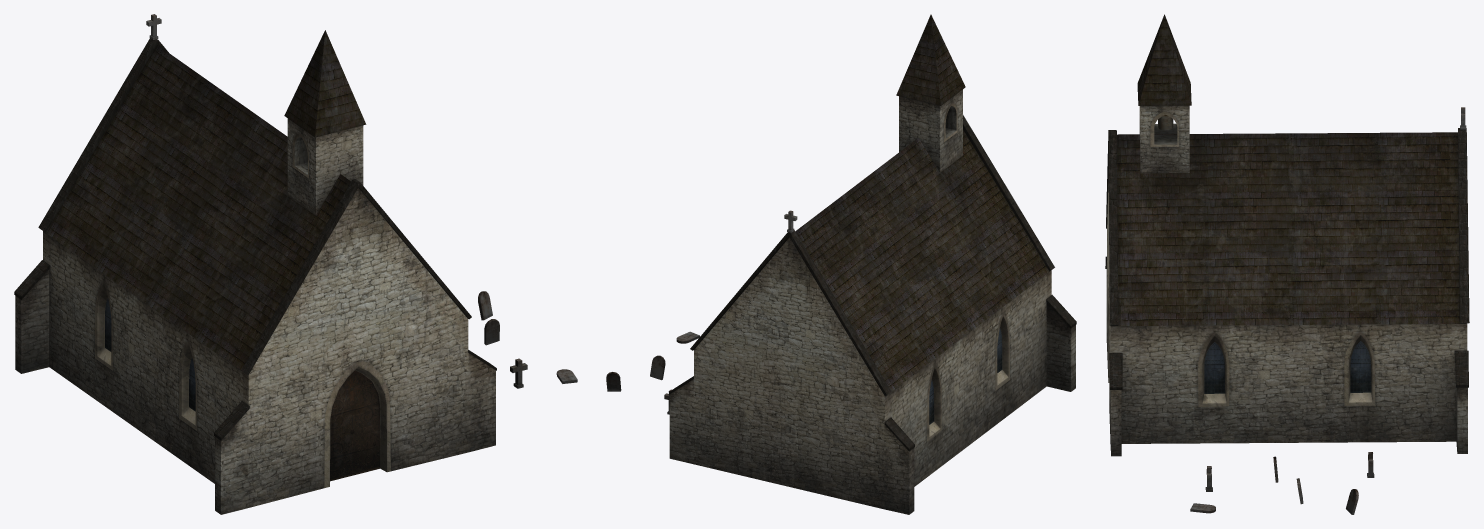
File: 001_ChurchNew.obj
The picture shows the model from 3 angles, left to right: view 1: azimuth 30°, elevation 25°; view 2: azimuth 150°, elevation 25°; view 3: azimuth 270°, elevation 25°; orthographic projection. The views are drawn at different scales.
Parts seen in each view (by area): view 1: chapel_obj.001; view 2: chapel_obj.001; view 3: chapel_obj.001.
Part boxes in pixels (box(x1,y1,x2,y2)): chapel_obj.001: box(14, 14, 577, 514); chapel_obj.001: box(606, 14, 1076, 514); chapel_obj.001: box(1105, 14, 1469, 514).
Bounding box in the file's own units: 241 × 238 × 205.
